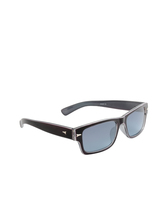glasses: (19, 98, 152, 156)
